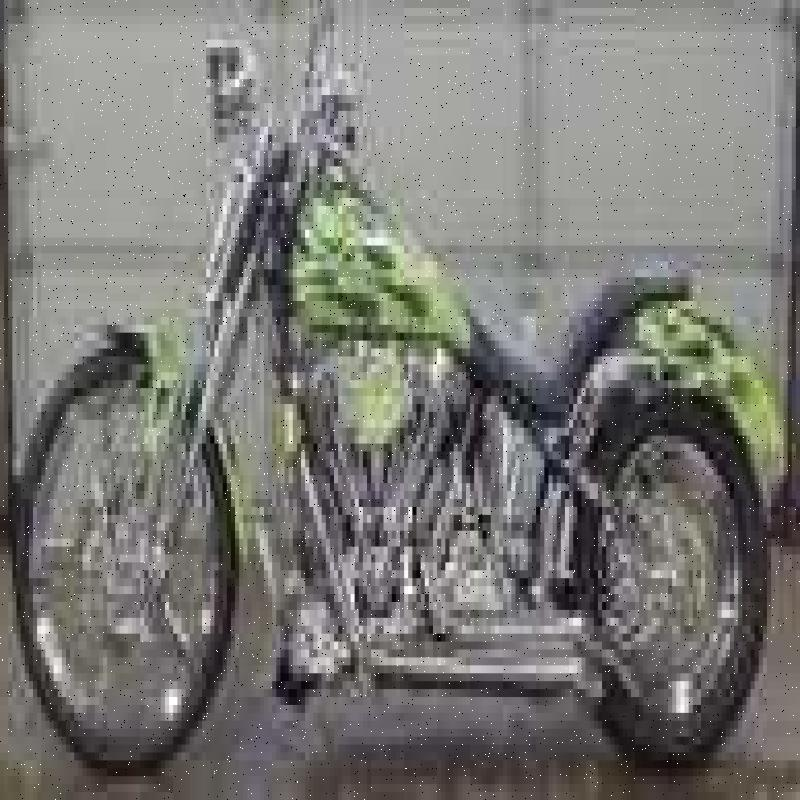bike: (16, 28, 776, 741)
